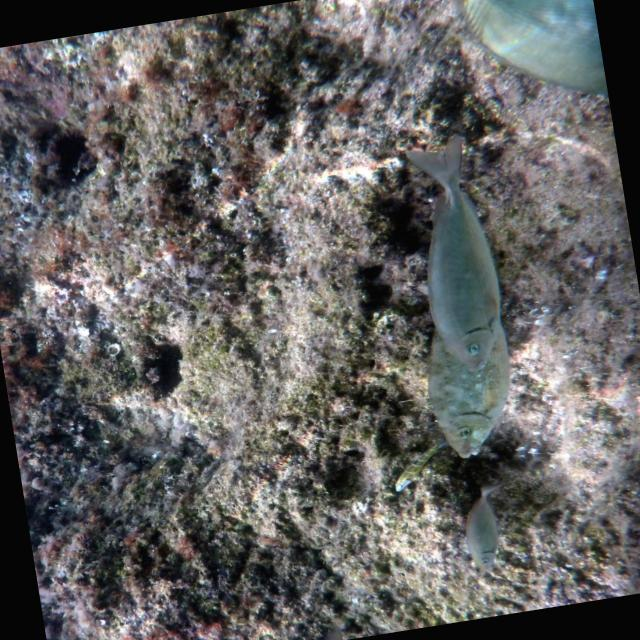Sokar Baligi: (396, 136, 527, 382)
